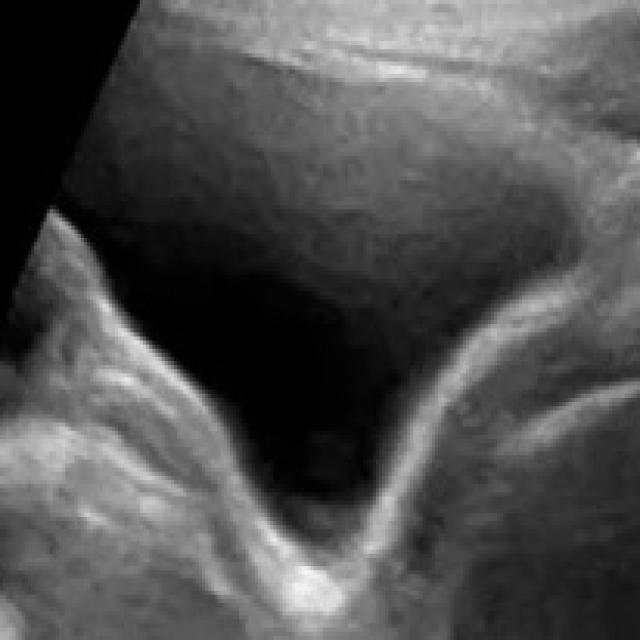bladder: (37, 16, 611, 602)
